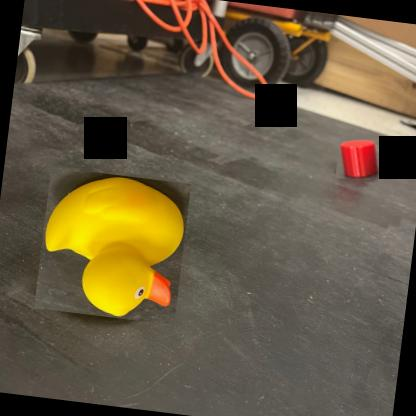duck: (34, 166, 190, 324)
red cylinder: (334, 134, 382, 182)
